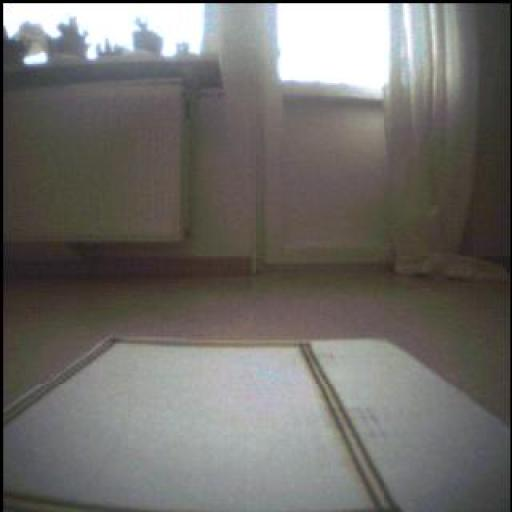Pad: (4, 340, 379, 512)
